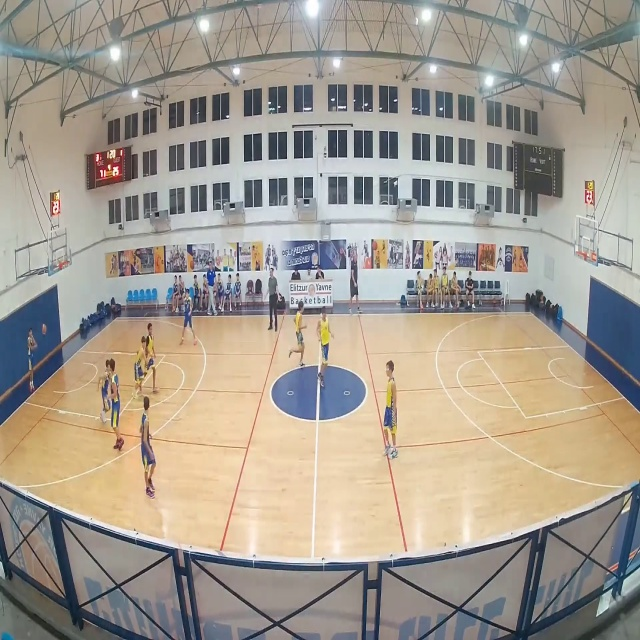Basketball: (42, 324, 47, 335)
